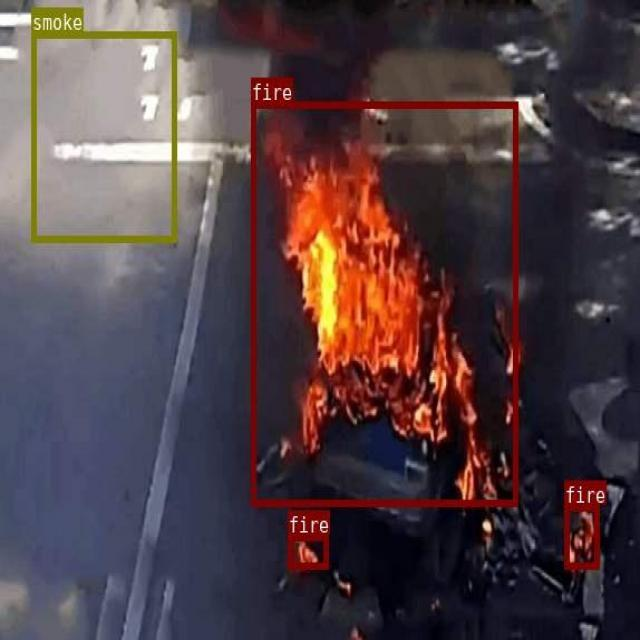fire: (251, 101, 517, 505), (563, 504, 599, 568), (288, 534, 328, 568)
smoke: (30, 31, 176, 242)
